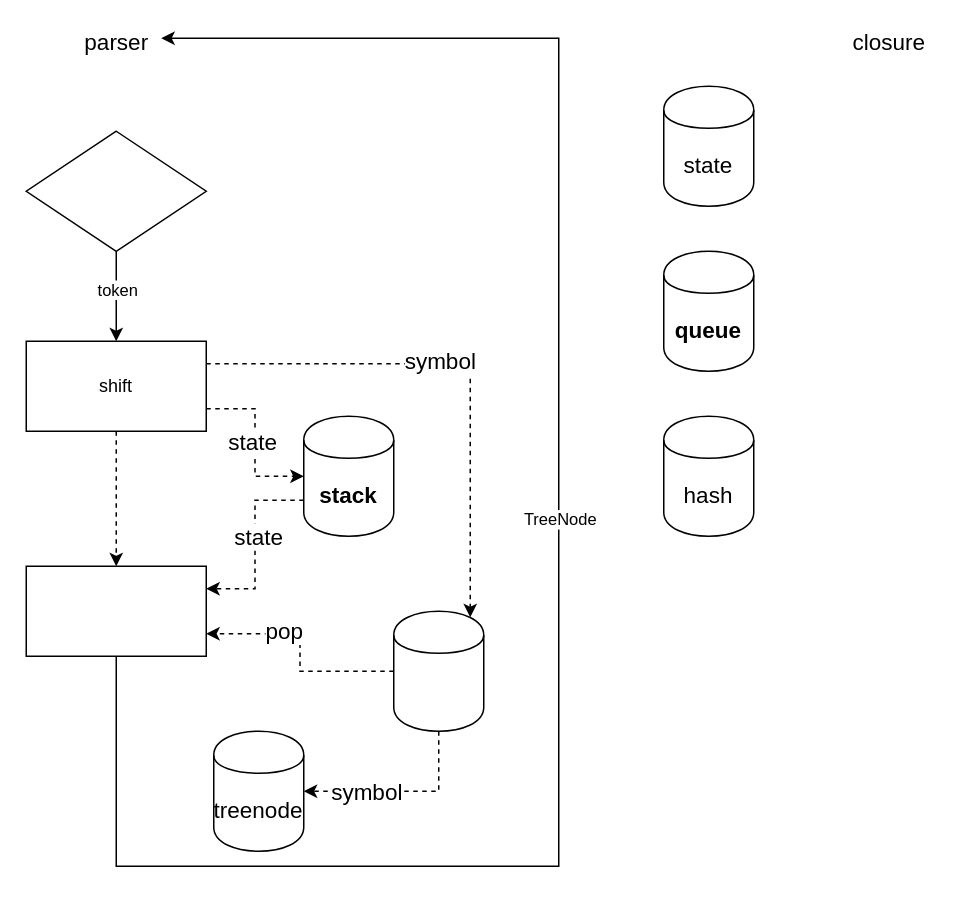
Image size: 960x905. Some labels were removed from this diagram. Each missing label, with the centre of its shape:
for of scan(source): the point at 115,190
reduce: the point at 115,610
symbolStack: the point at 438,670
